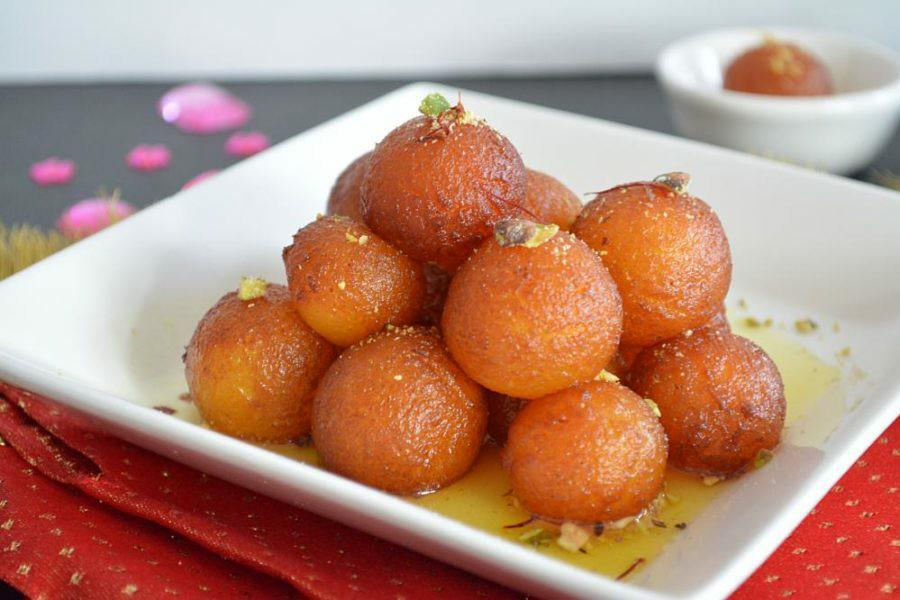GulabJamun: (445, 218, 623, 399), (569, 172, 731, 364), (316, 322, 489, 498), (359, 93, 530, 269), (188, 277, 334, 447), (629, 327, 786, 479), (506, 380, 669, 523), (282, 215, 431, 344), (722, 36, 834, 100), (532, 172, 586, 242), (328, 149, 381, 218)
